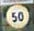limite 50: (5, 3, 29, 29)
